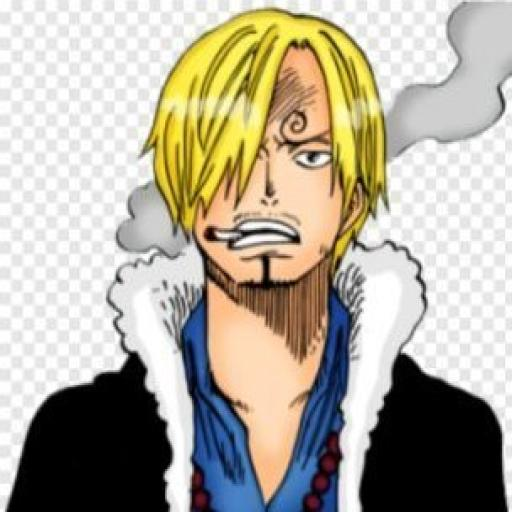sanji: (42, 2, 496, 512)
